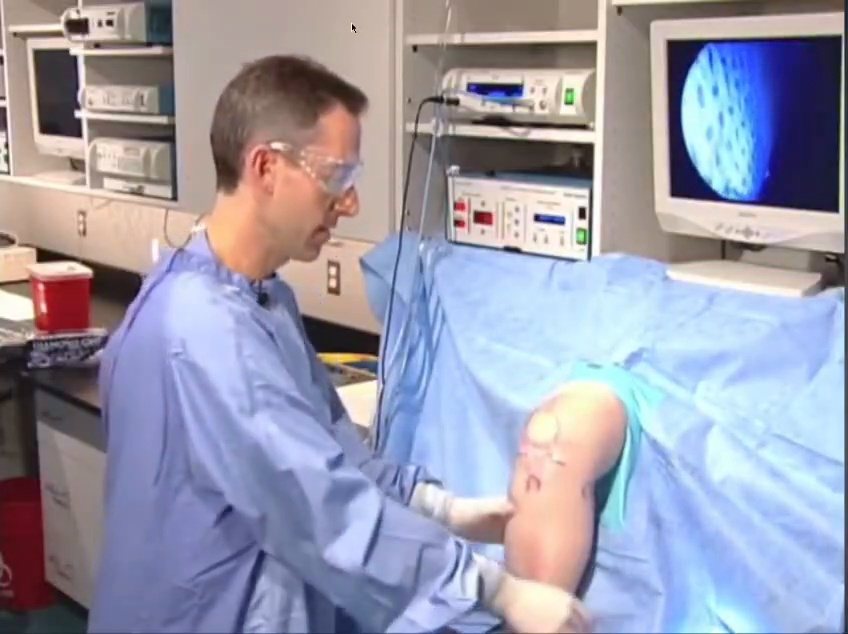probe: (678, 581, 765, 634)
